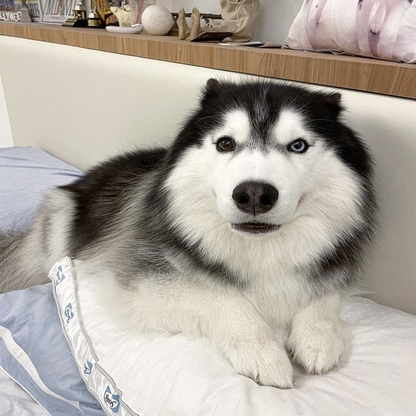husky: (2, 73, 386, 394)
